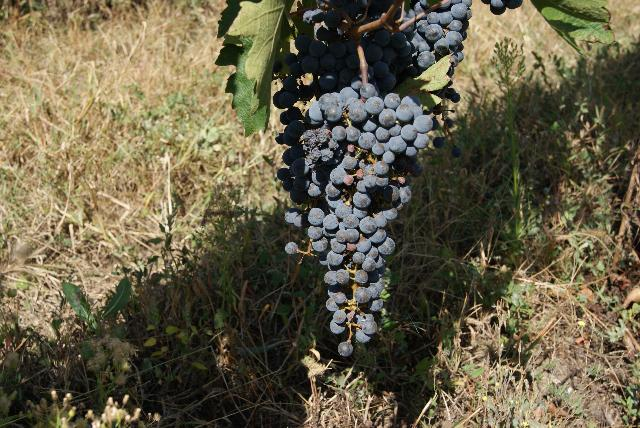grapes: (276, 85, 432, 356)
